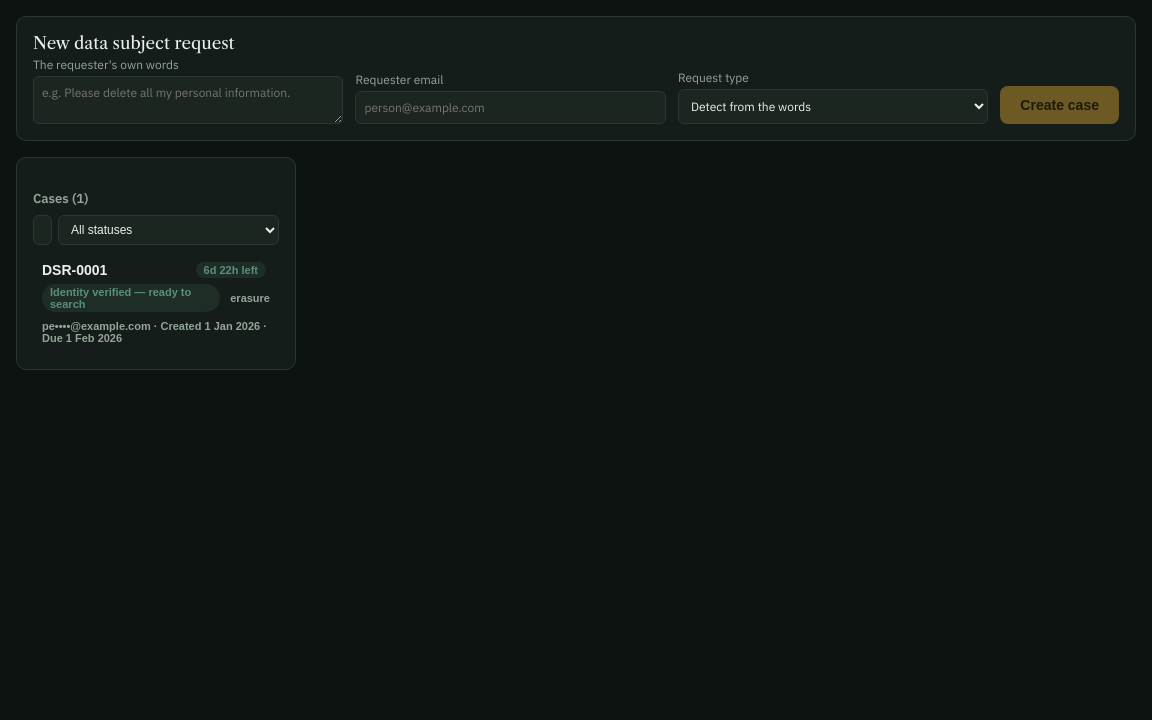
it: DsrDashboard: case detail › shows one plain status, the identity state in words, and the due date
Expected: the text "DSR-0001" is shown, [42, 262, 107, 278]
Click the button "DSR-0001": (156, 303) [33, 253, 279, 353]
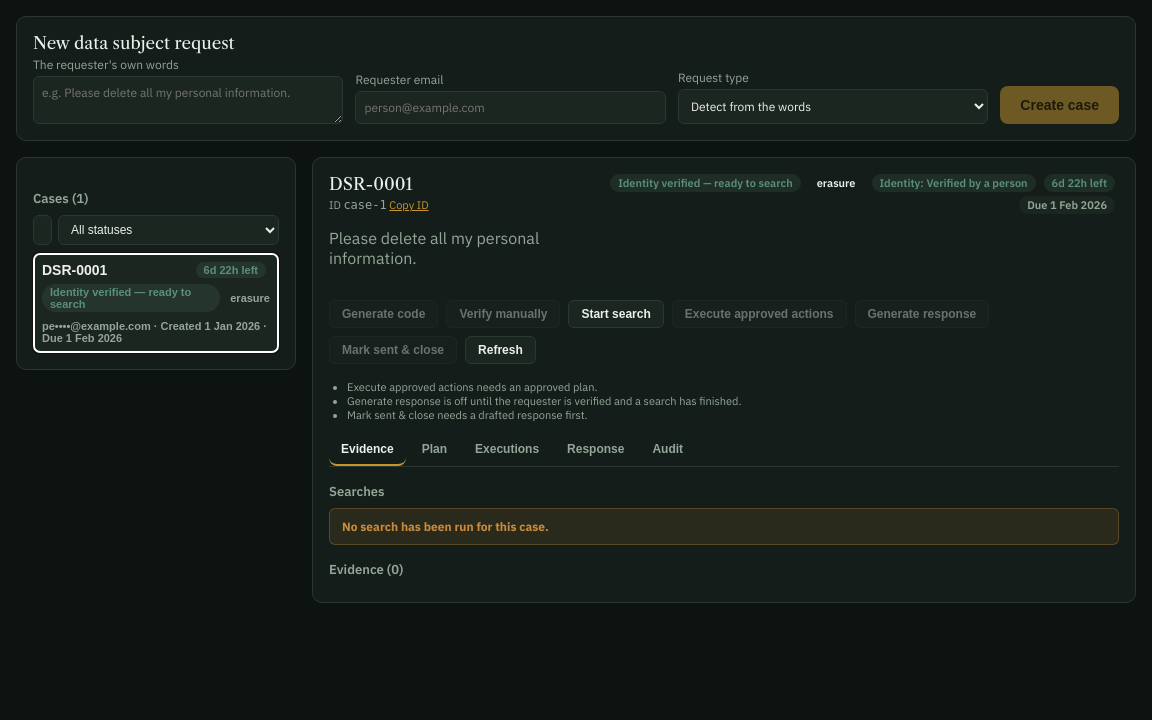
Expected: the heading "DSR-0001" is shown, [329, 174, 413, 194]
Expected: the text "Identity verified — ready to search" in the row of "Identity:" is shown, [618, 176, 793, 190]
Expected: the text "Identity: Verified by a person" is shown, [872, 174, 1036, 192]
